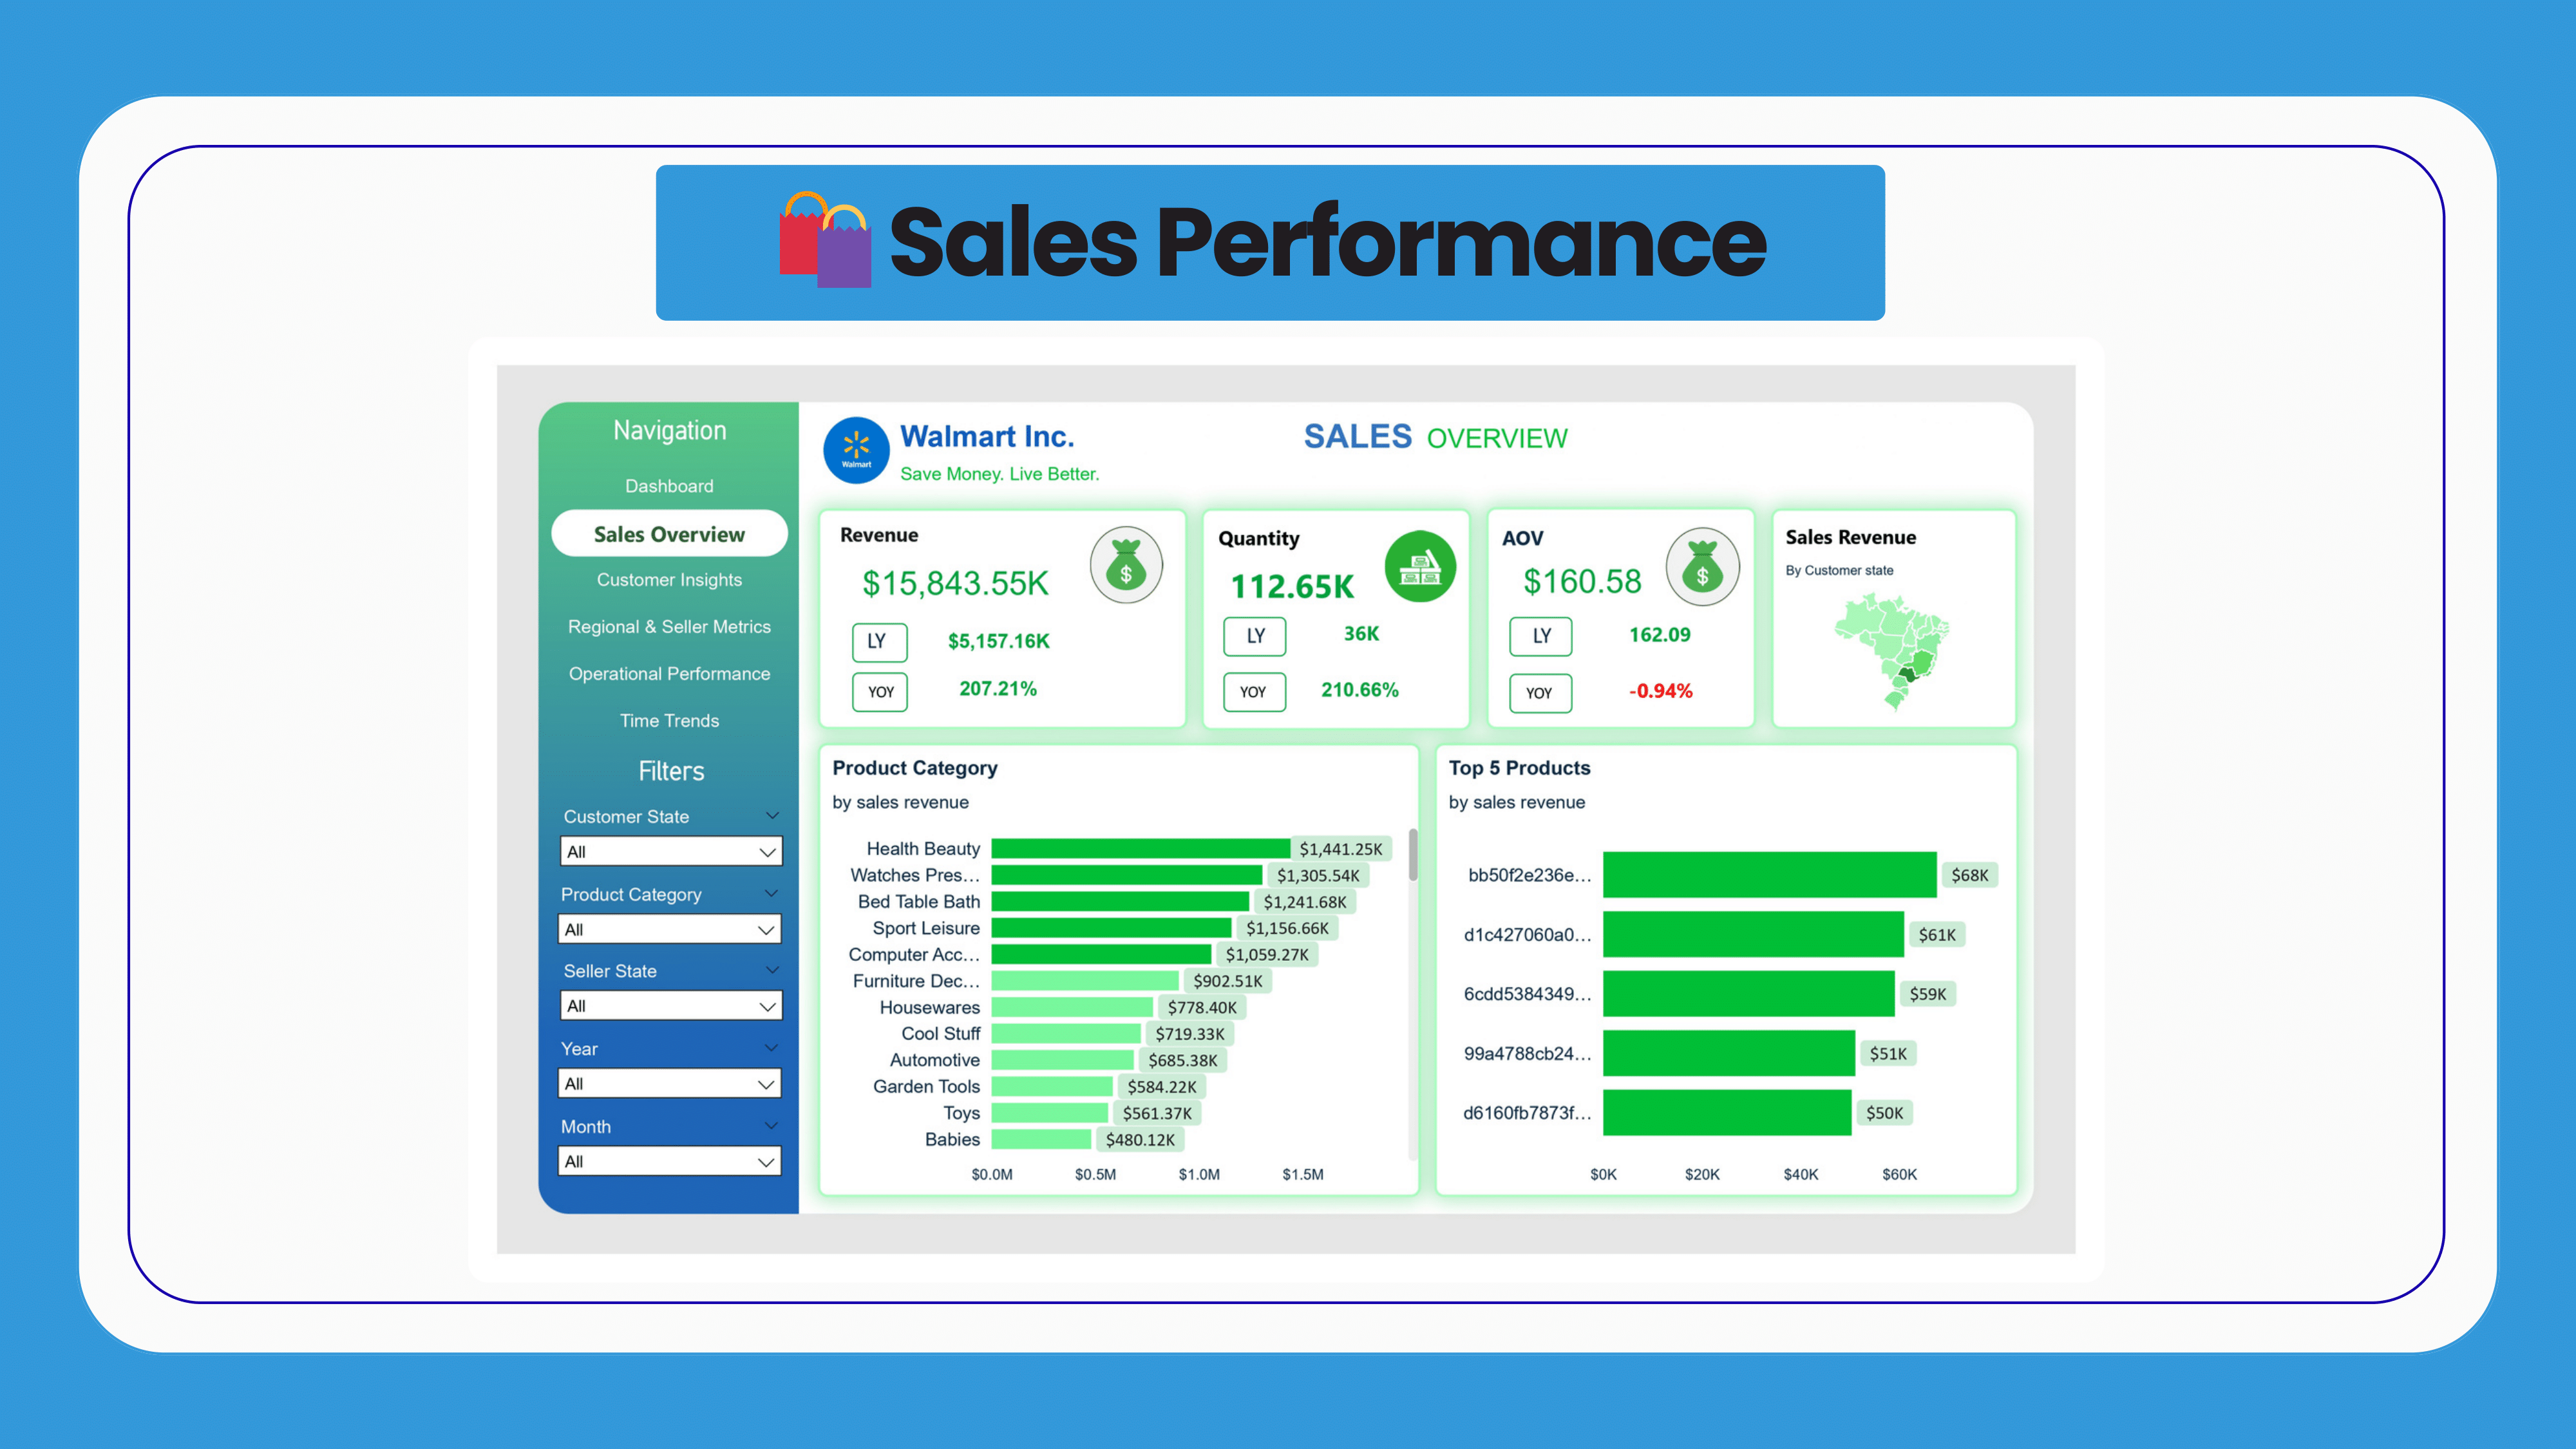

The dashboard page shown, as its layout file describes it:
{"tool":"powerbi","page":{"name":"Page 1","canvas":[1280,720],"ordinal":7},"visuals":[{"type":"card","fields":{"Values":["_Measures.Total Sales Revenue"]},"box":[345.5,33.3,280.2,108.8],"z":0},{"type":"textbox","box":[12.8,20.5,302,121.6],"z":1000},{"type":"textbox","box":[673.1,33.3,293,108.8],"z":2000},{"type":"card","fields":{"Values":["_Measures.Total Quantity Sold"]},"box":[977.6,28.2,280.2,113.9],"z":3000},{"type":"textbox","box":[26.9,188.1,646.2,83.2],"z":4000},{"type":"textbox","box":[23,271.3,646.2,47.3],"z":5000},{"type":"card","fields":{"Values":["_Measures.Average Order Value"]},"box":[687.2,188.1,264.9,130.5],"z":6000},{"type":"textbox","box":[26.9,335.3,793.4,79.3],"z":7000},{"type":"pivotTable","fields":{"Values":["_Measures.Average Item Value Per Order"],"Rows":["order_items.order_id"]},"box":[26.9,399.2,495.2,303.3],"z":8000}]}

Visuals, with their boxes in screenshot pixels (x1, y1, x2, y2), scaled from the page's 1280x720 canvas onto the 2576x1449 screenshot:
card - _Measures.Total Sales Revenue: 696/67/1259/286
textbox: 26/41/634/286
textbox: 1354/67/1944/286
card - _Measures.Total Quantity Sold: 1967/57/2532/286
textbox: 54/379/1354/546
textbox: 46/546/1347/641
card - _Measures.Average Order Value: 1383/379/1916/641
textbox: 54/675/1651/835
pivotTable - _Measures.Average Item Value Per Order x order_items.order_id: 54/804/1051/1414
